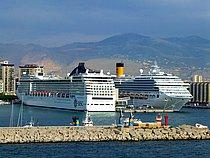Ship: (15, 70, 121, 116), (109, 61, 196, 116)
